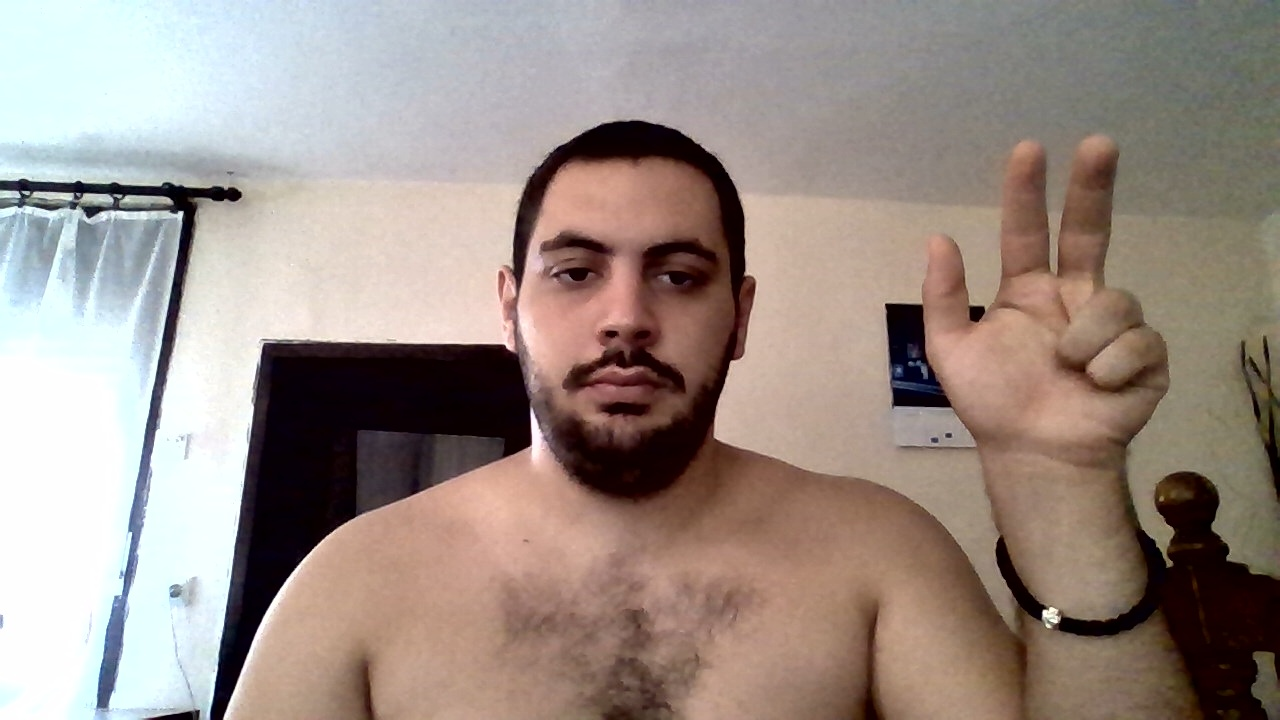serbia: (913, 133, 1173, 453)
